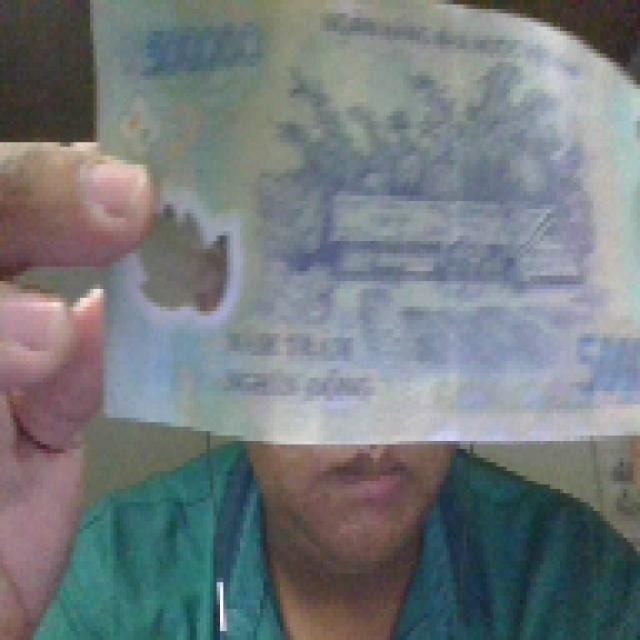500 000 VND: (80, 0, 637, 449)
